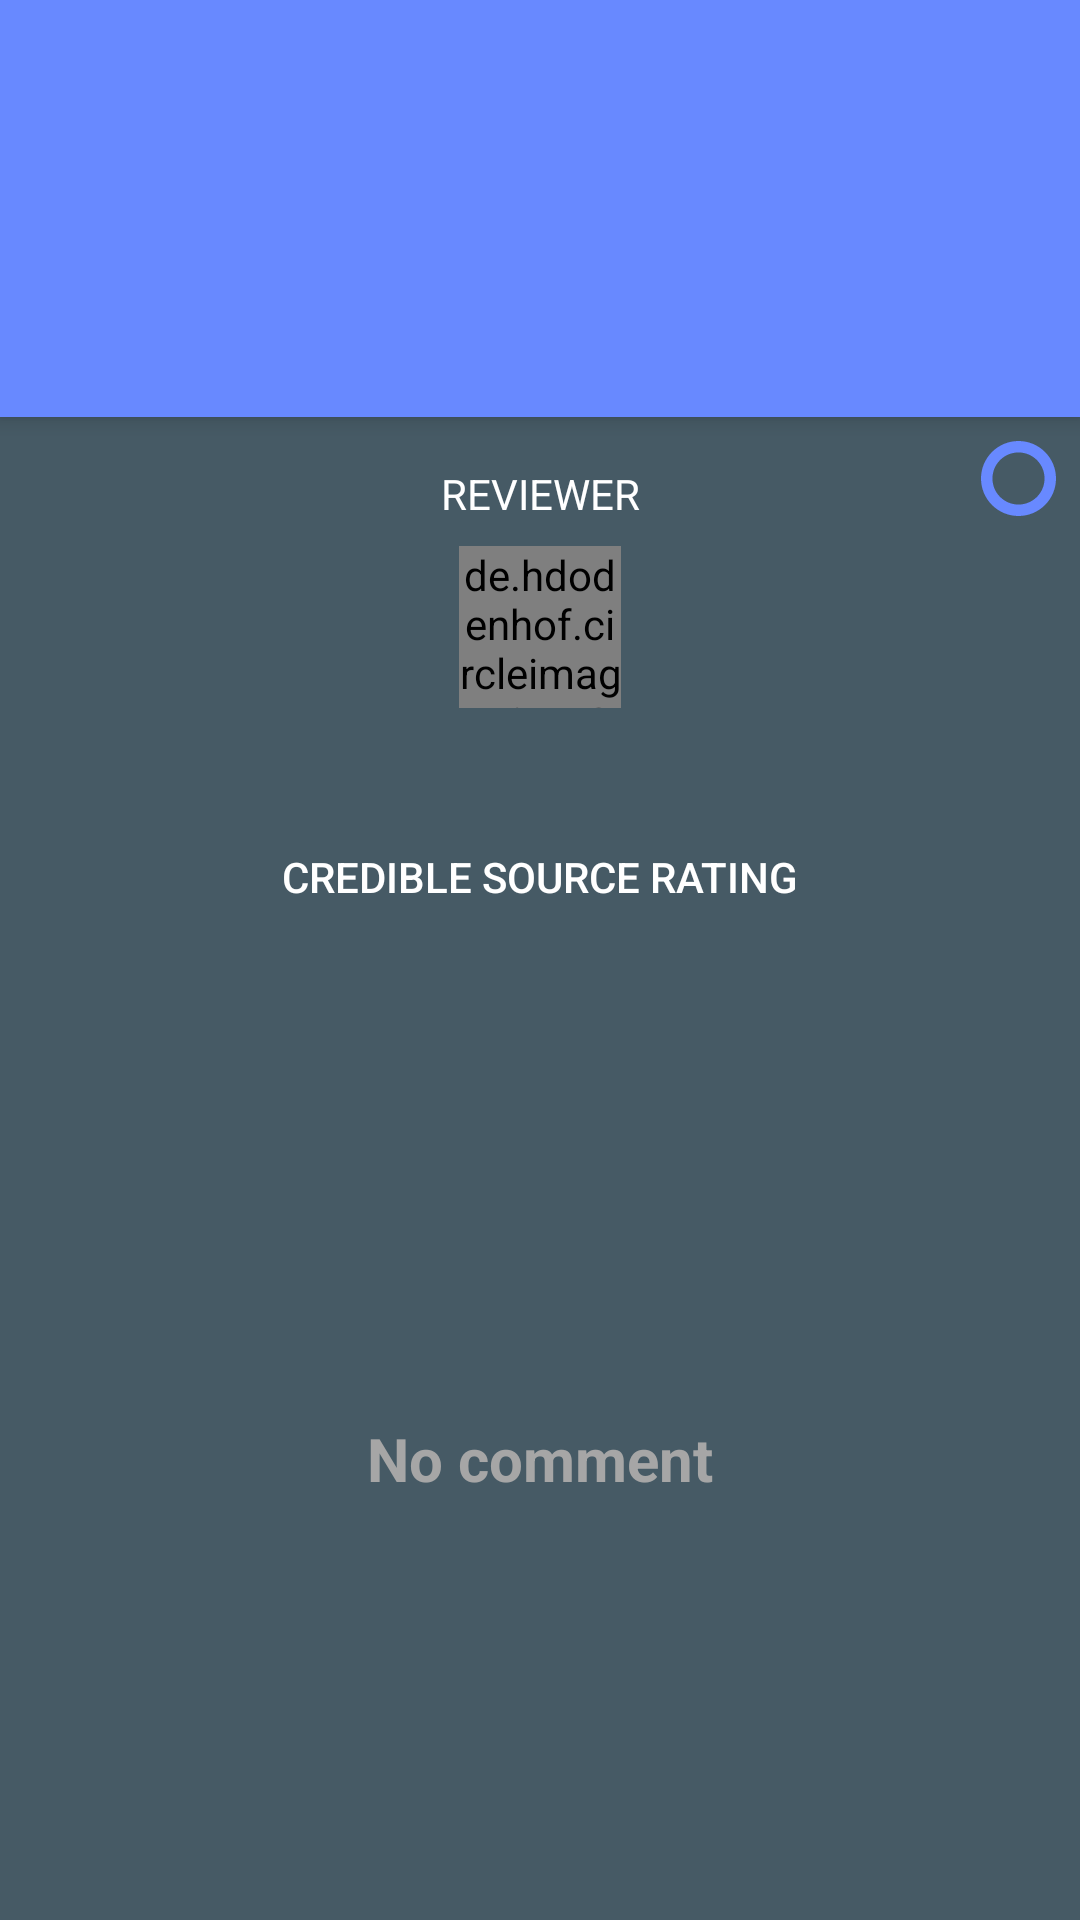

Point at icon controls on the screen. Image size 1080*1920, points as point (x, y).
anim loading: point (1018, 478)
